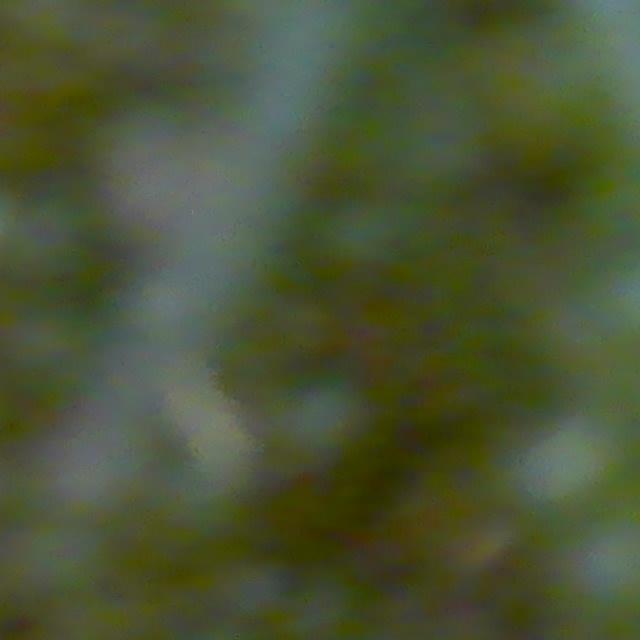SeaGrape: (560, 500, 640, 625), (508, 430, 621, 514)
